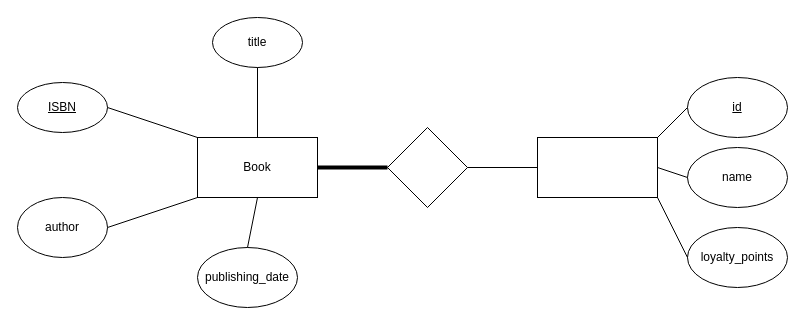
Image size: 805x325. Some labels were removed from this diagram. Each missing label, with the centre of its shape:
"Customer" goes at (x=597, y=167).
"ordered" goes at (x=427, y=167).
